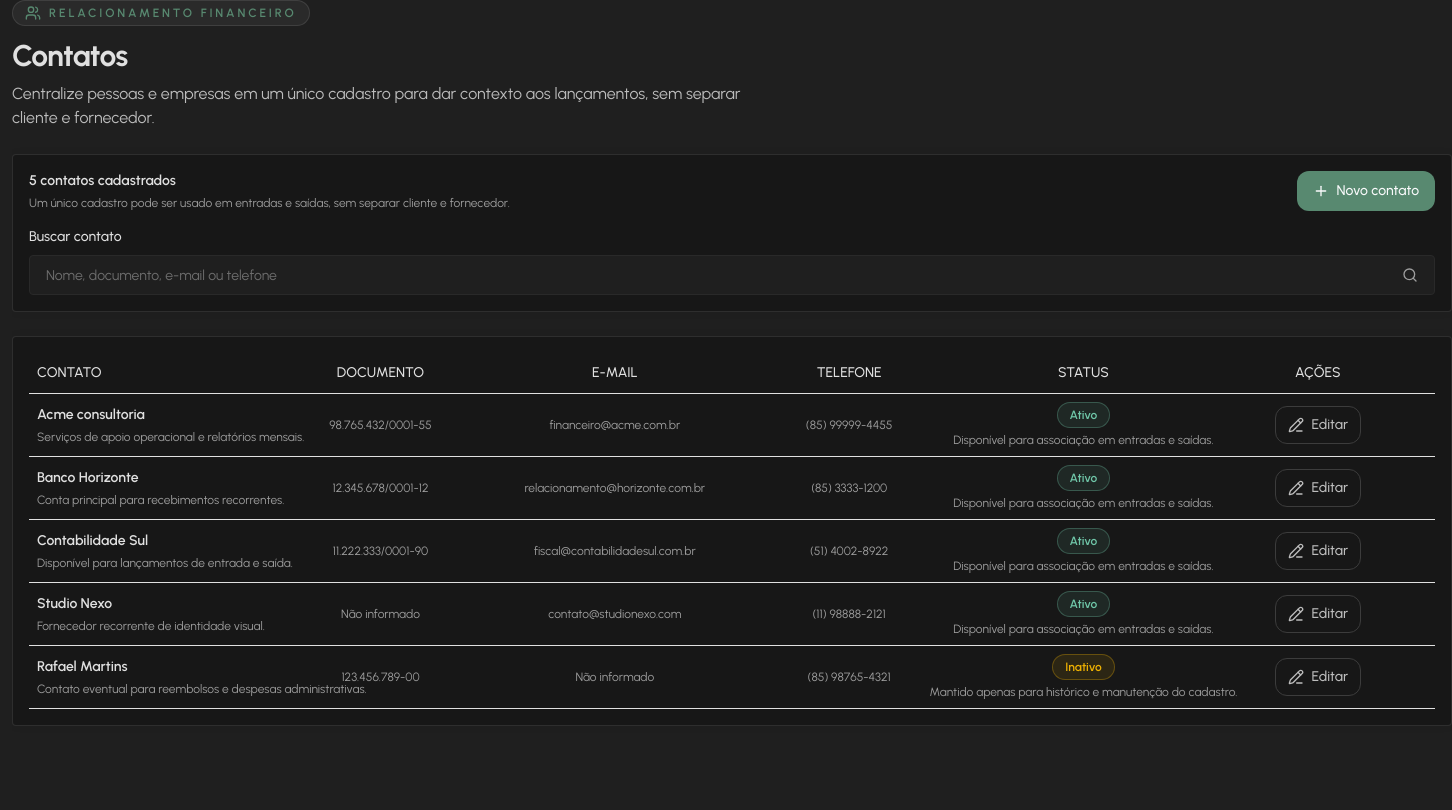
Test case: <ContactsPage /> › aplica busca na lista de contatos
Expected: the text "Banco Horizonte" is shown, [37, 468, 139, 486]
Type "acme" into the field labelled "Buscar contato".
click(716, 275); type("acme")  # box [46, 263, 1386, 287]
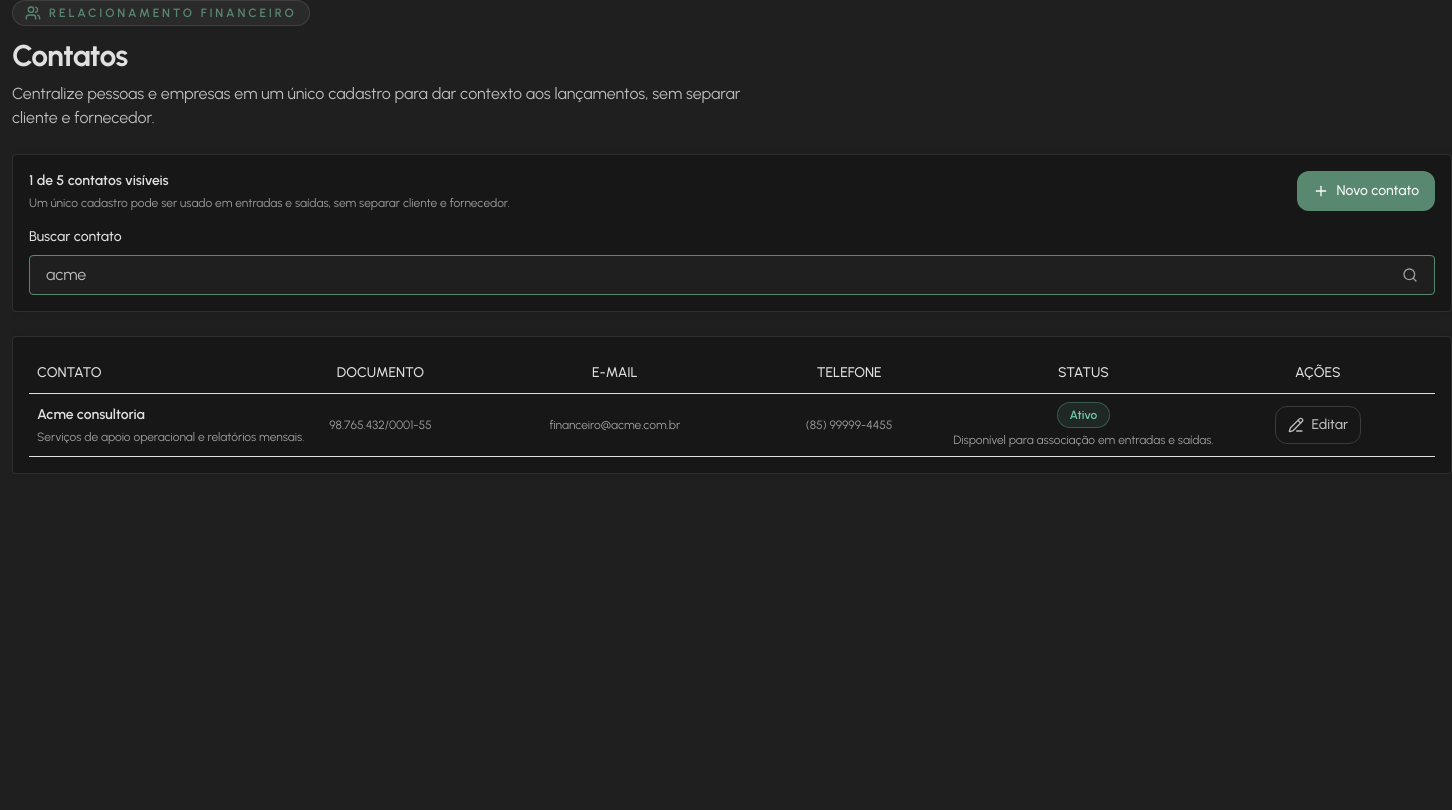
Expected: the text "Acme consultoria" is shown, [37, 406, 145, 422]
Expected: the text "Banco Horizonte" is gone
